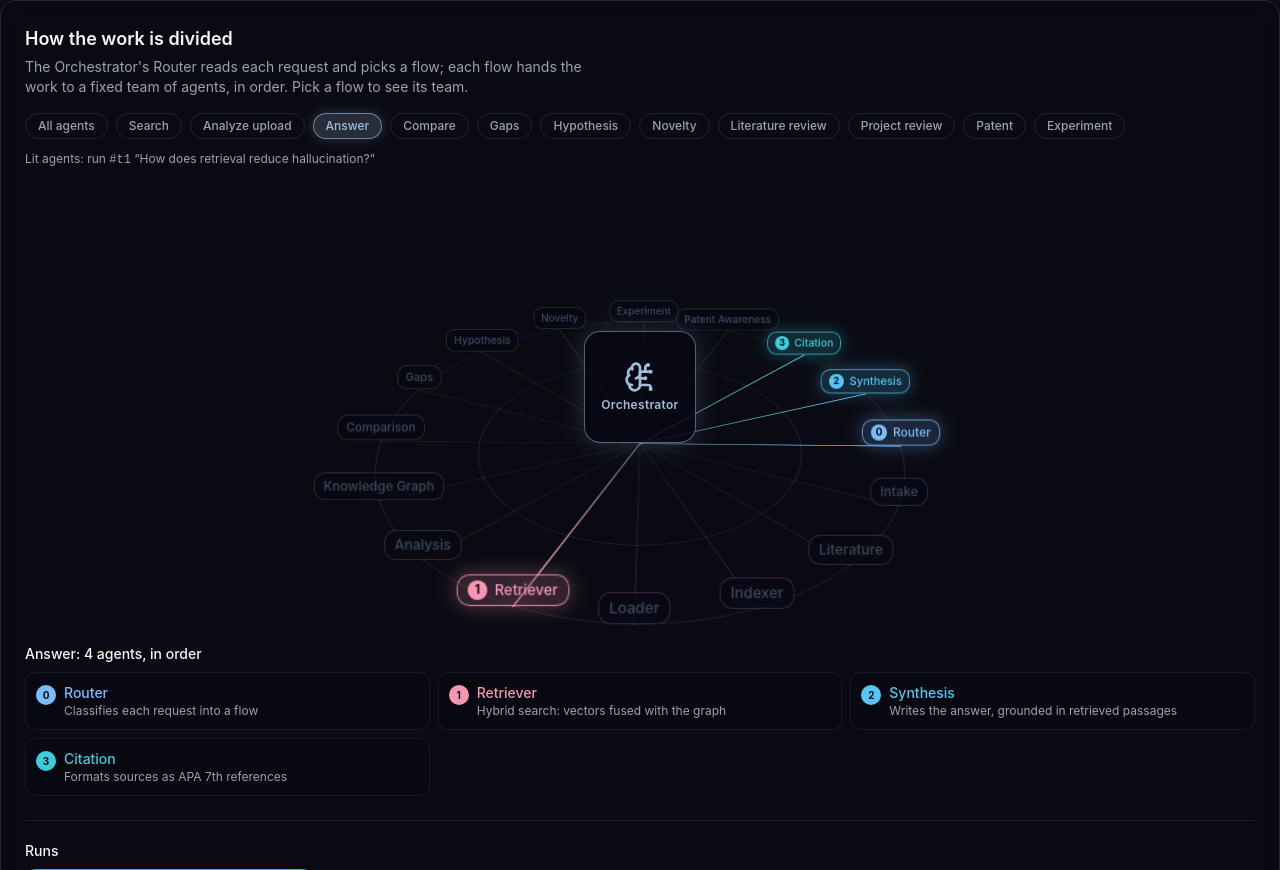
Test: TaskVisualizer › still lets the user browse any flow, dropping the run caption
Expected: the text "Lit agents: run" is shown, top-left (25, 151), bottom-right (109, 166)
Click the button "Experiment". click: (1080, 126)
box: top-left (1034, 113), bottom-right (1125, 139)
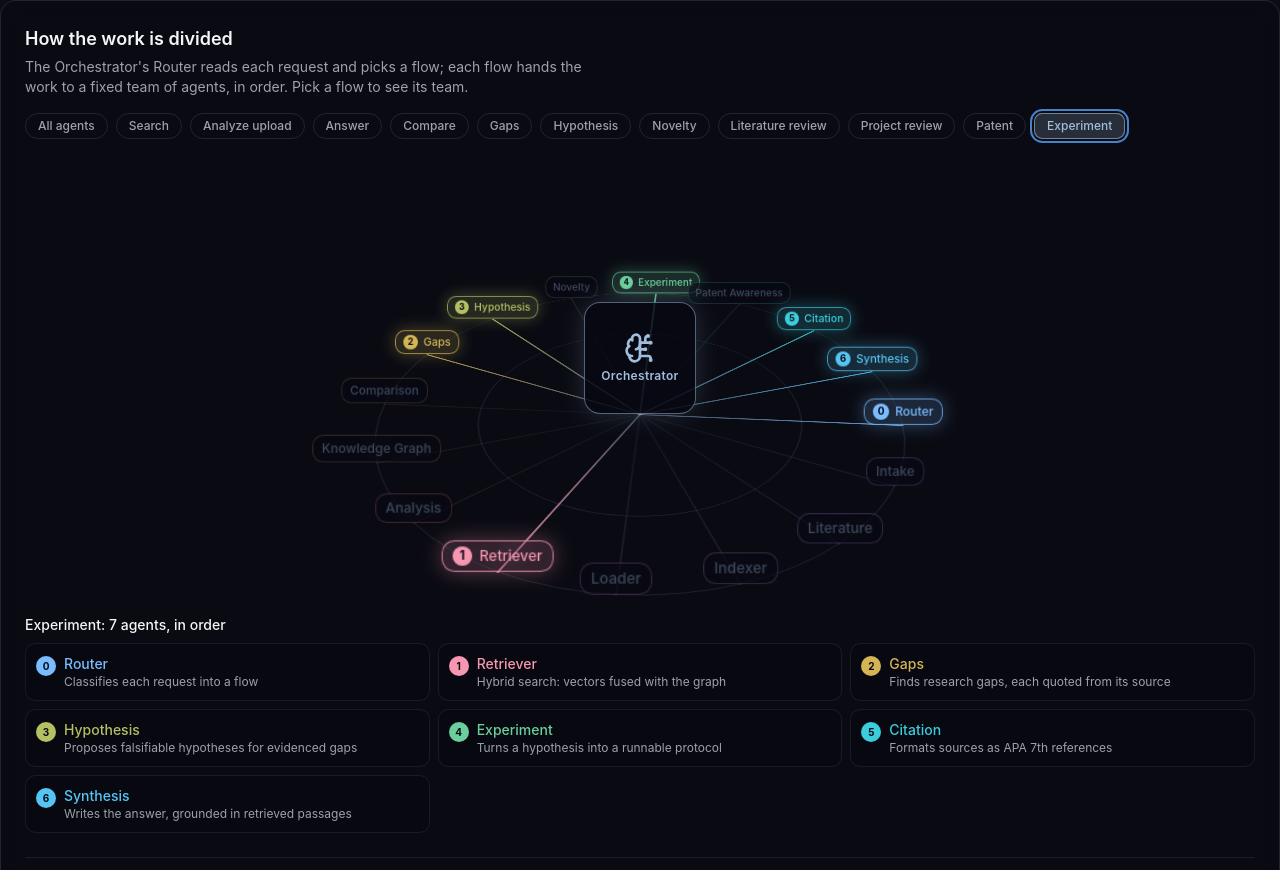
Now the text "Lit agents: run" is gone
